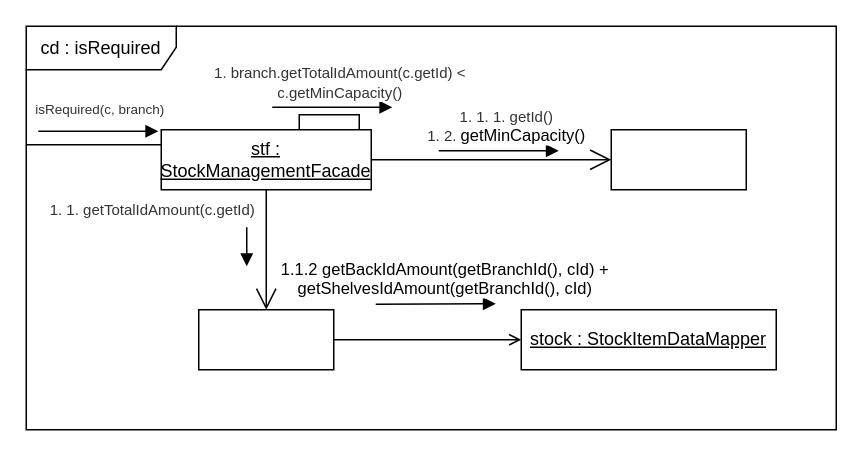
Some shapes in this 863 by 456 pixel diagram are drawn without their labels. Each missing label, with the centre of its shape:
"branch : Branch" goes at point 265,339.
"c : Catalog Item" goes at point 678,159.
